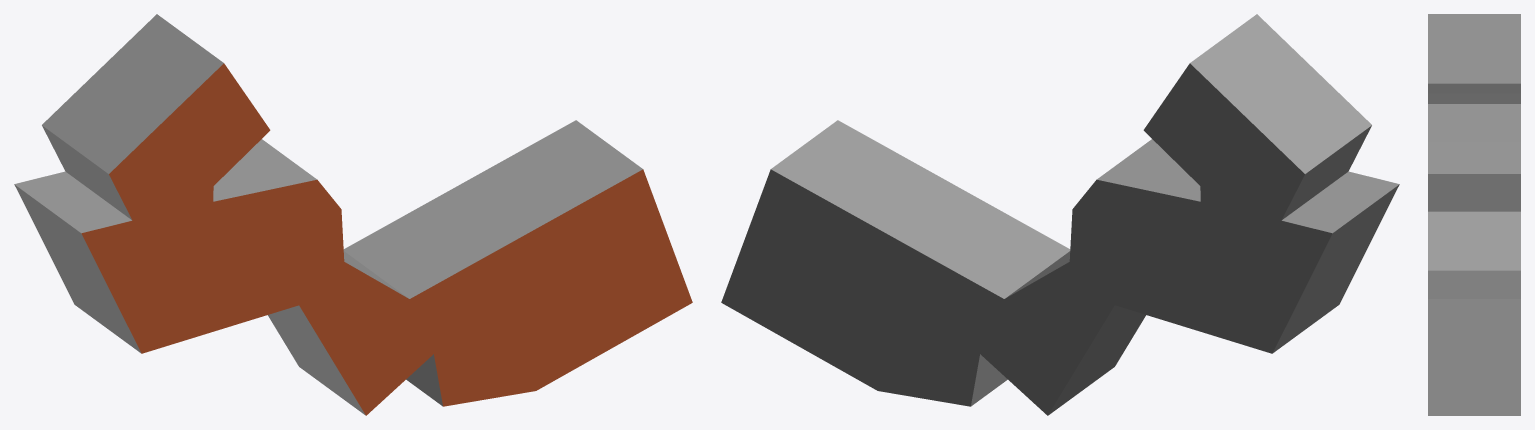
The model's file is construction_5771_assumed_A_Casa_h6m.obj.
3 views of the same model, side by side, from view 1: azimuth 30°, elevation 25°; view 2: azimuth 150°, elevation 25°; view 3: azimuth 270°, elevation 25° (orthographic). The views are drawn at different scales.
Visible parts, largest first — view 1: construction_5771_assumed_A_Casa; view 2: construction_5771_assumed_A_Casa; view 3: construction_5771_assumed_A_Casa.
Boxes of the visible parts, left/top/right/bottom form: construction_5771_assumed_A_Casa: left=14, top=14, right=692, bottom=415; construction_5771_assumed_A_Casa: left=721, top=14, right=1399, bottom=415; construction_5771_assumed_A_Casa: left=1428, top=14, right=1520, bottom=415.
Size of the model in its own units: 31.54 by 19.91 by 6.
